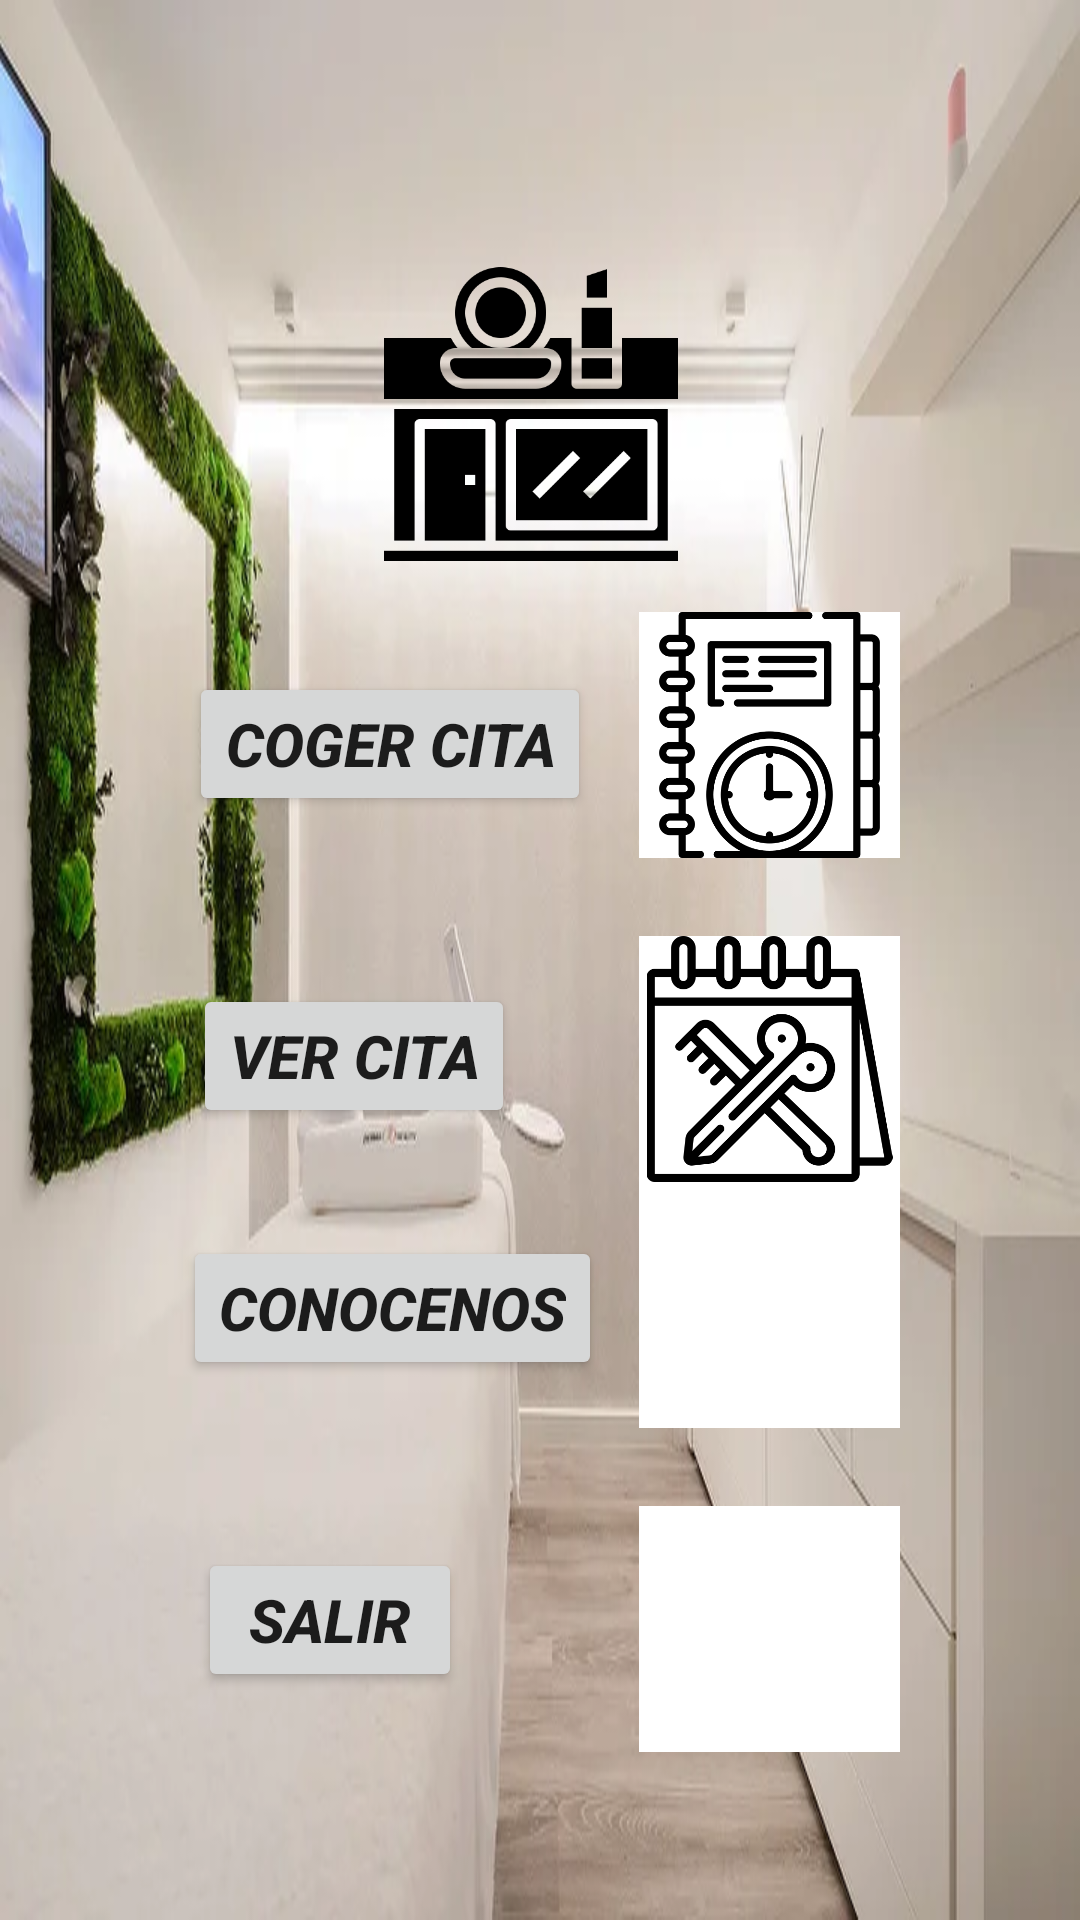

Where to tap for icons on this 1080×1920 app screen, as point (x, y):
agenda: point (769, 735)
calendario: point (769, 1059)
salondebelleza: point (531, 414)
